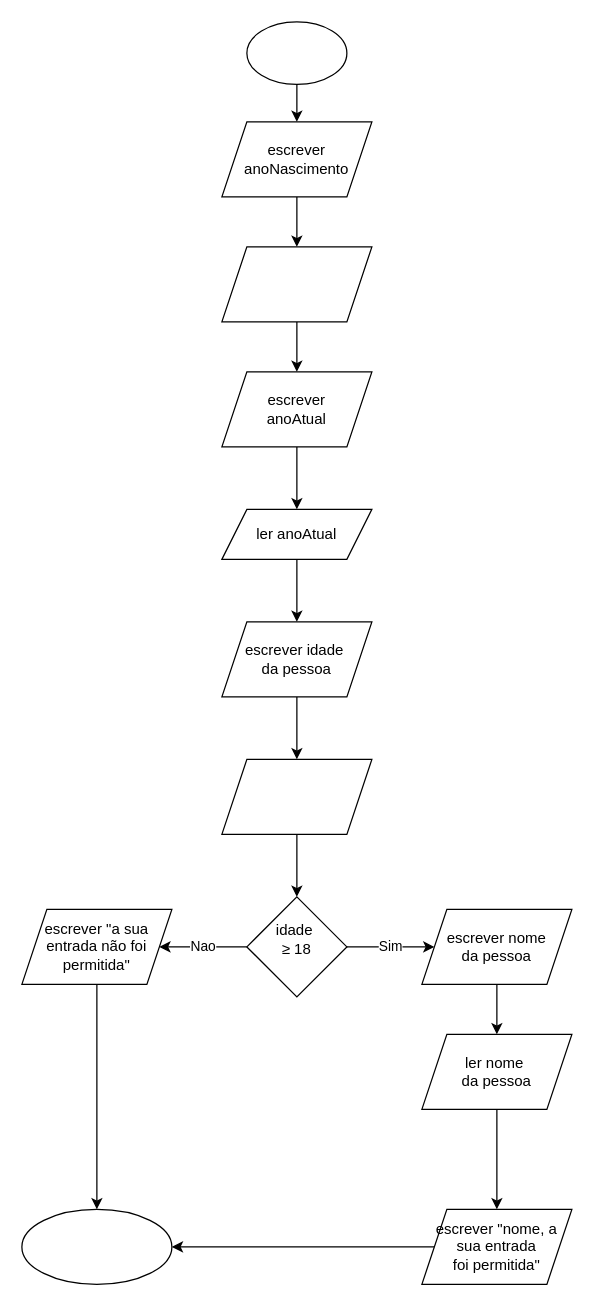
Image size: 594x1306. Some labels were removed from this diagram. Here are the shapes that lost their labels. From the top down, the centre of each, then its label:
At point 296,52: "Inicio".
At point 296,284: "ler anoNascimento".
At point 296,796: "ler idade da pessoa".
At point 96,1246: "Fim".
